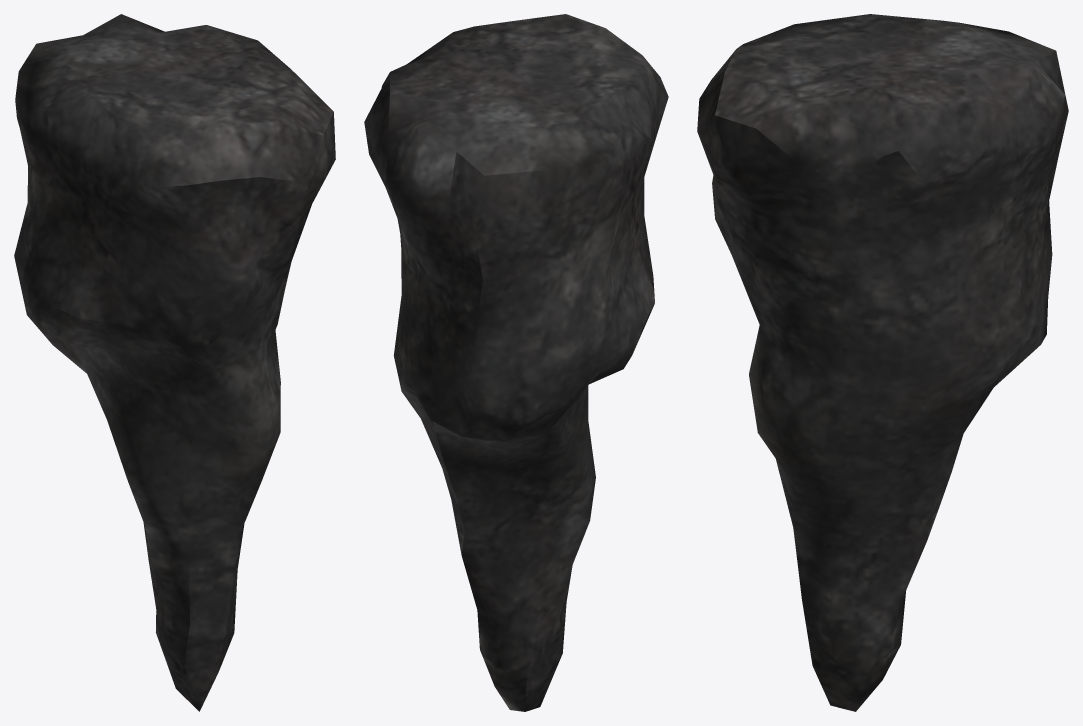
Rendered from ShortTop.fbx.
3 views of the same model, side by side, from view 1: azimuth 30°, elevation 25°; view 2: azimuth 150°, elevation 25°; view 3: azimuth 270°, elevation 25° (orthographic). The views are drawn at different scales.
Visible parts, largest first — view 1: ShortTop; view 2: ShortTop; view 3: ShortTop.
Part boxes in pixels (x1,y1,x2,y2): ShortTop: [14, 14, 335, 711]; ShortTop: [364, 14, 668, 711]; ShortTop: [697, 14, 1068, 711].
Bounding box in the file's own units: 52.63 × 128 × 66.19.
1 material, 1 textured.
